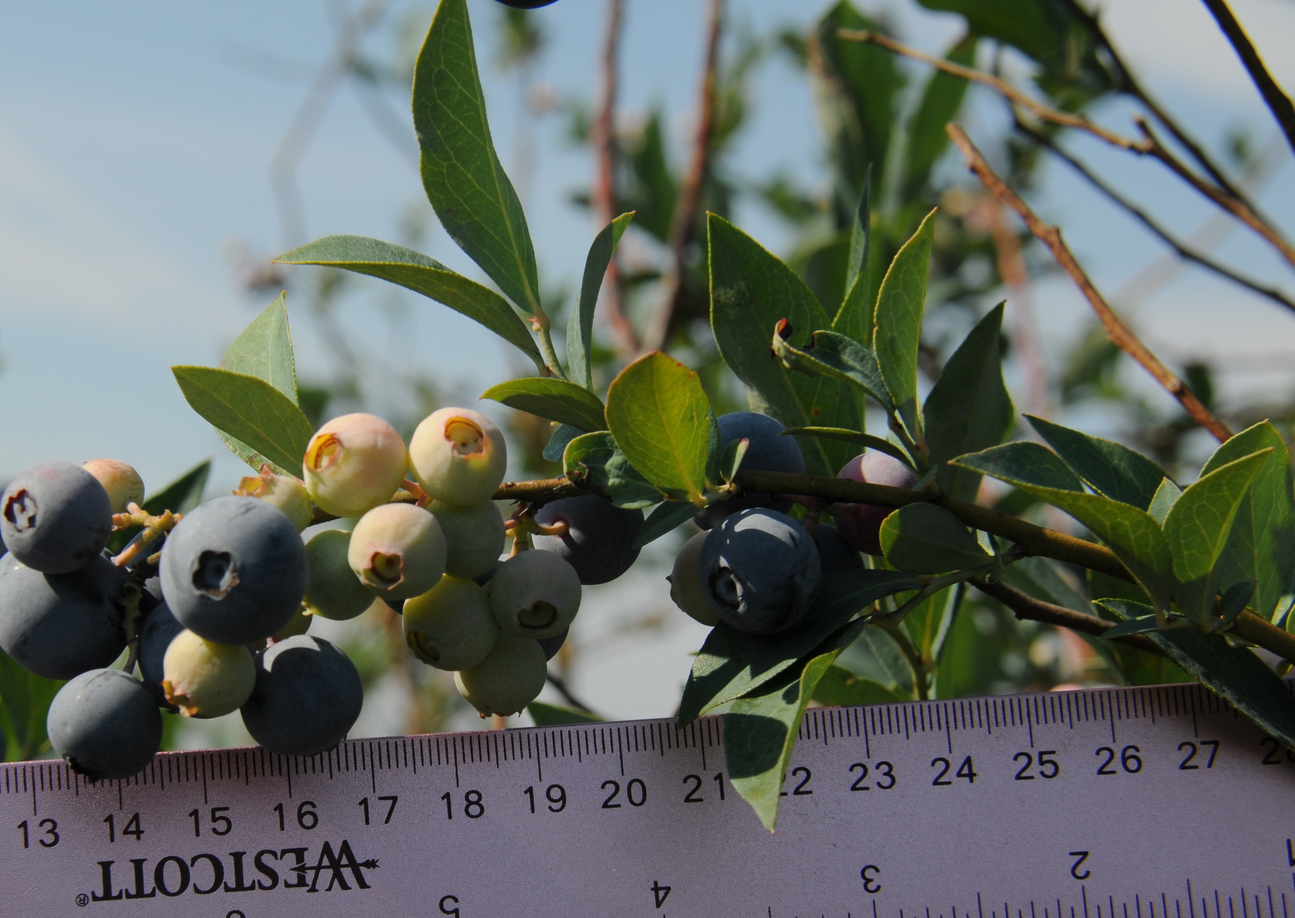Immature: (302, 414, 409, 518), (347, 501, 449, 600), (409, 408, 507, 507), (401, 573, 499, 671), (832, 450, 920, 556), (158, 629, 256, 718), (487, 550, 582, 639), (454, 630, 547, 720), (300, 530, 378, 621), (425, 499, 506, 579), (231, 464, 312, 535), (670, 527, 718, 625), (81, 458, 145, 513), (260, 603, 312, 648)
Mature: (159, 496, 310, 642), (0, 546, 134, 680), (699, 506, 822, 633), (241, 634, 363, 760), (692, 411, 806, 531), (47, 669, 163, 785), (527, 473, 645, 585), (0, 459, 112, 575), (138, 600, 185, 716), (118, 527, 171, 623), (797, 520, 865, 569)
